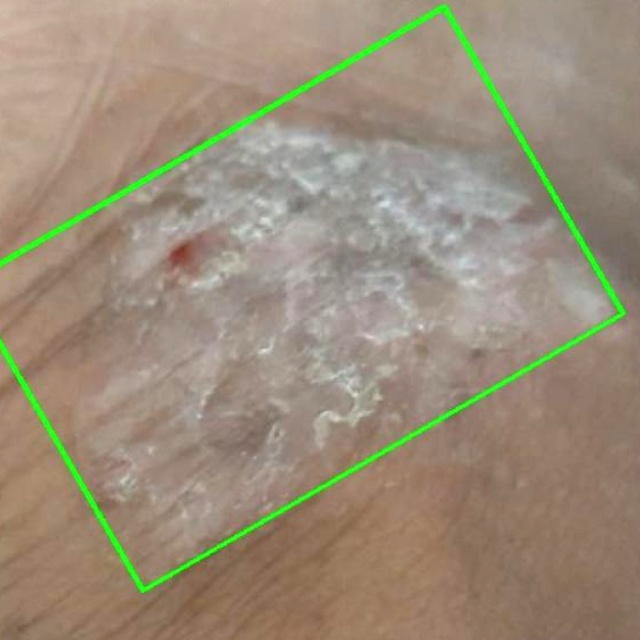Eczema: (0, 6, 623, 590)
